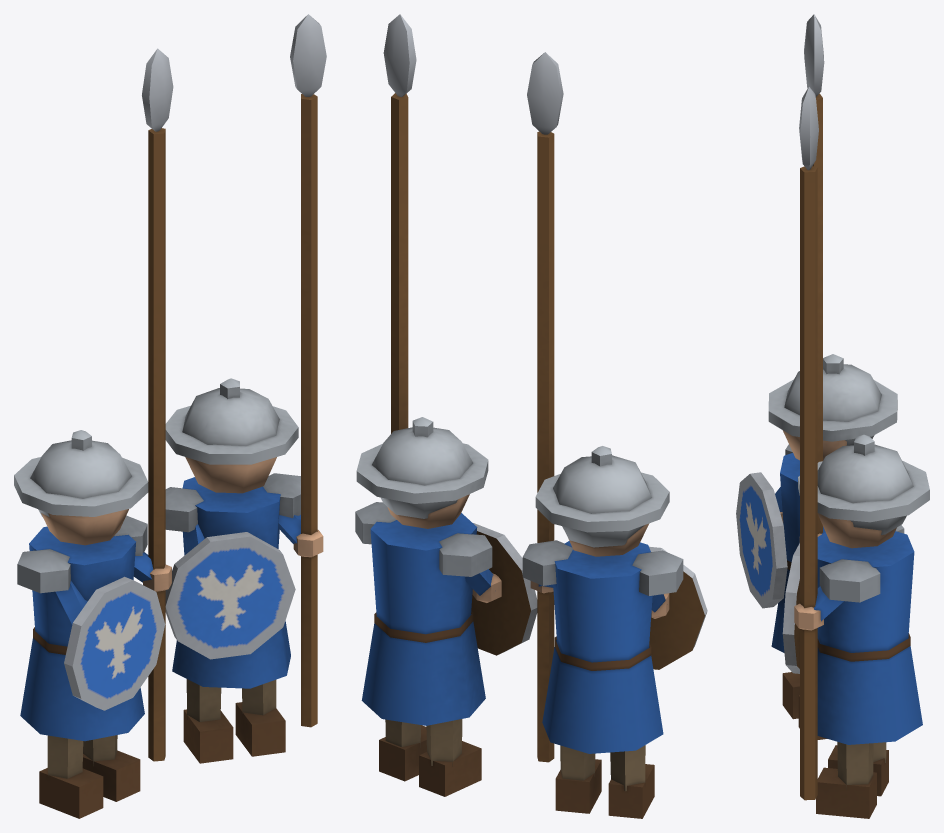
The model's file is sentry_dl2_blue.glb.
3 renders of one model, left to right at view 1: azimuth 30°, elevation 25°; view 2: azimuth 150°, elevation 25°; view 3: azimuth 270°, elevation 25°, orthographic.
Parts seen in each view (by area): view 1: sentry_dl2_blue; view 2: sentry_dl2_blue; view 3: sentry_dl2_blue.
Boxes of the visible parts, bbox=[...] form: sentry_dl2_blue: bbox=[14, 14, 326, 818]; sentry_dl2_blue: bbox=[355, 14, 707, 818]; sentry_dl2_blue: bbox=[736, 14, 929, 818].
Size of the model in its own units: 0.3418 by 0.7916 by 0.1887.
1 material, 1 textured.
